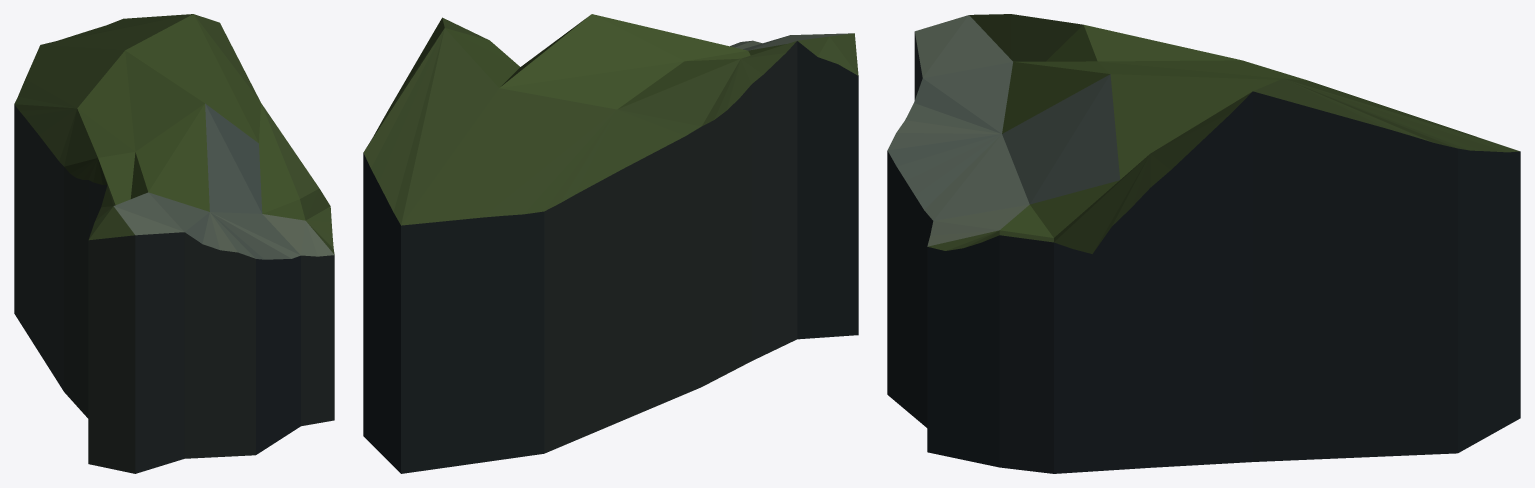
The model's file is cliff_sections_10b_shadow_buttress.glb.
3 renders of one model, left to right at view 1: azimuth 30°, elevation 25°; view 2: azimuth 150°, elevation 25°; view 3: azimuth 270°, elevation 25°, orthographic. The views are drawn at different scales.
Parts seen in each view (by area): view 1: Front columns study; view 2: Front columns study; view 3: Front columns study.
Boxes of the visible parts, x1=… form: Front columns study: x1=14, y1=14, x2=334, y2=473; Front columns study: x1=363, y1=14, x2=858, y2=473; Front columns study: x1=887, y1=14, x2=1520, y2=473.
Size of the model in its own units: 63.16 by 68.59 by 105.
